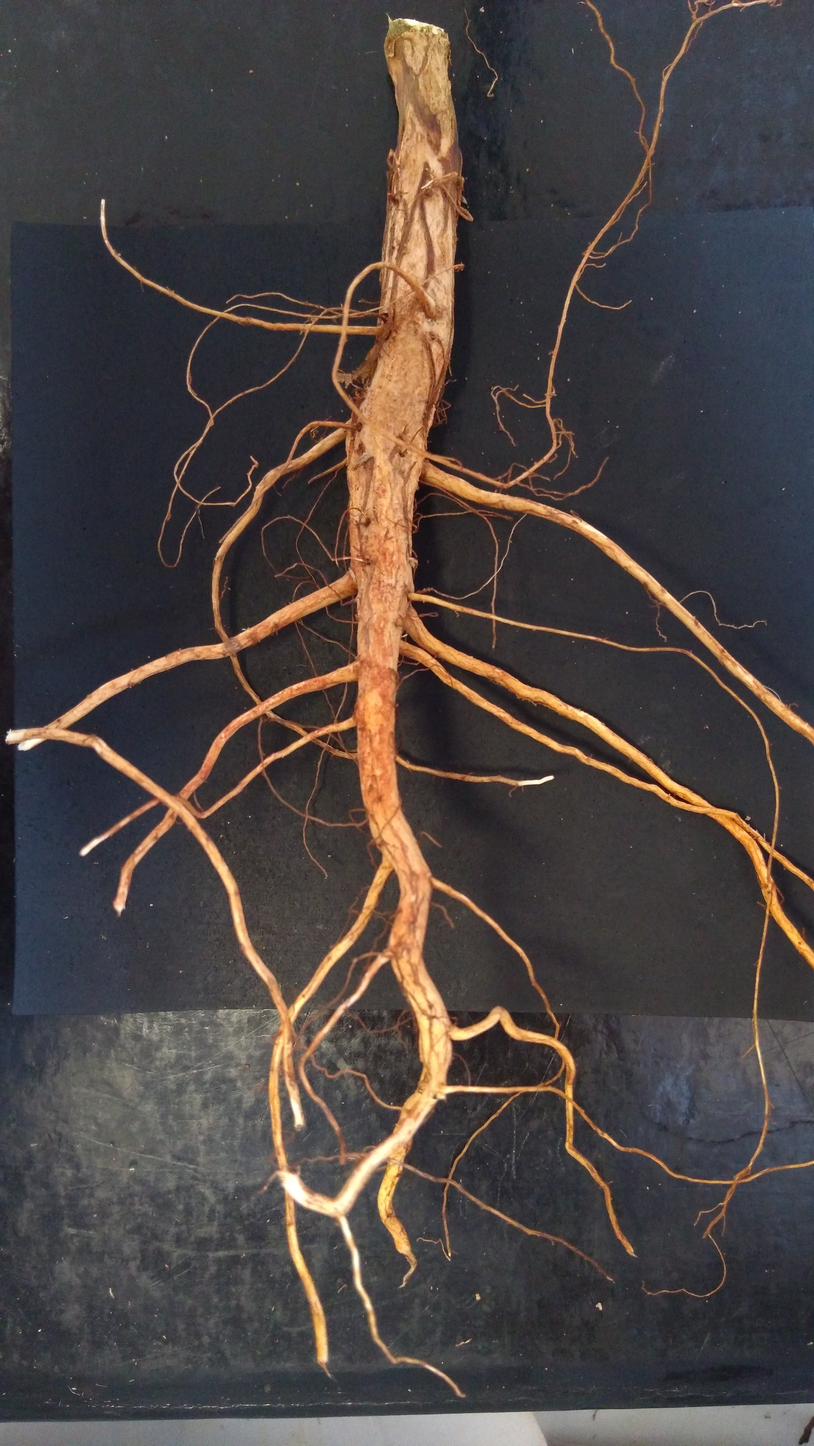nodule: (386, 191, 401, 205), (406, 557, 418, 570), (595, 1302, 603, 1311), (475, 1292, 481, 1301)
